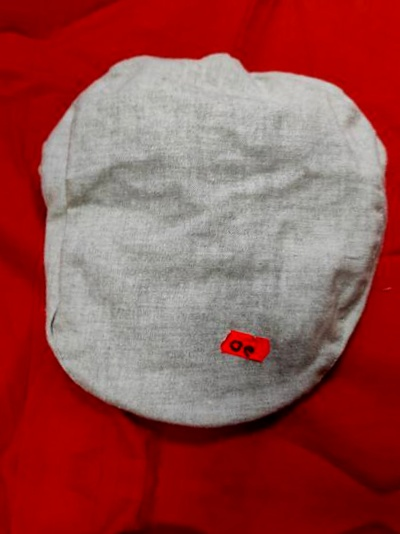Hat: (10, 7, 400, 452), (0, 520, 365, 534), (395, 53, 400, 498)
